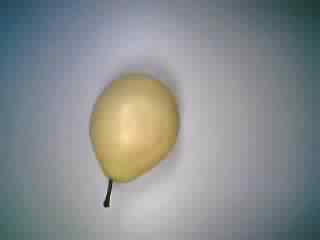pear: (73, 67, 193, 211)
